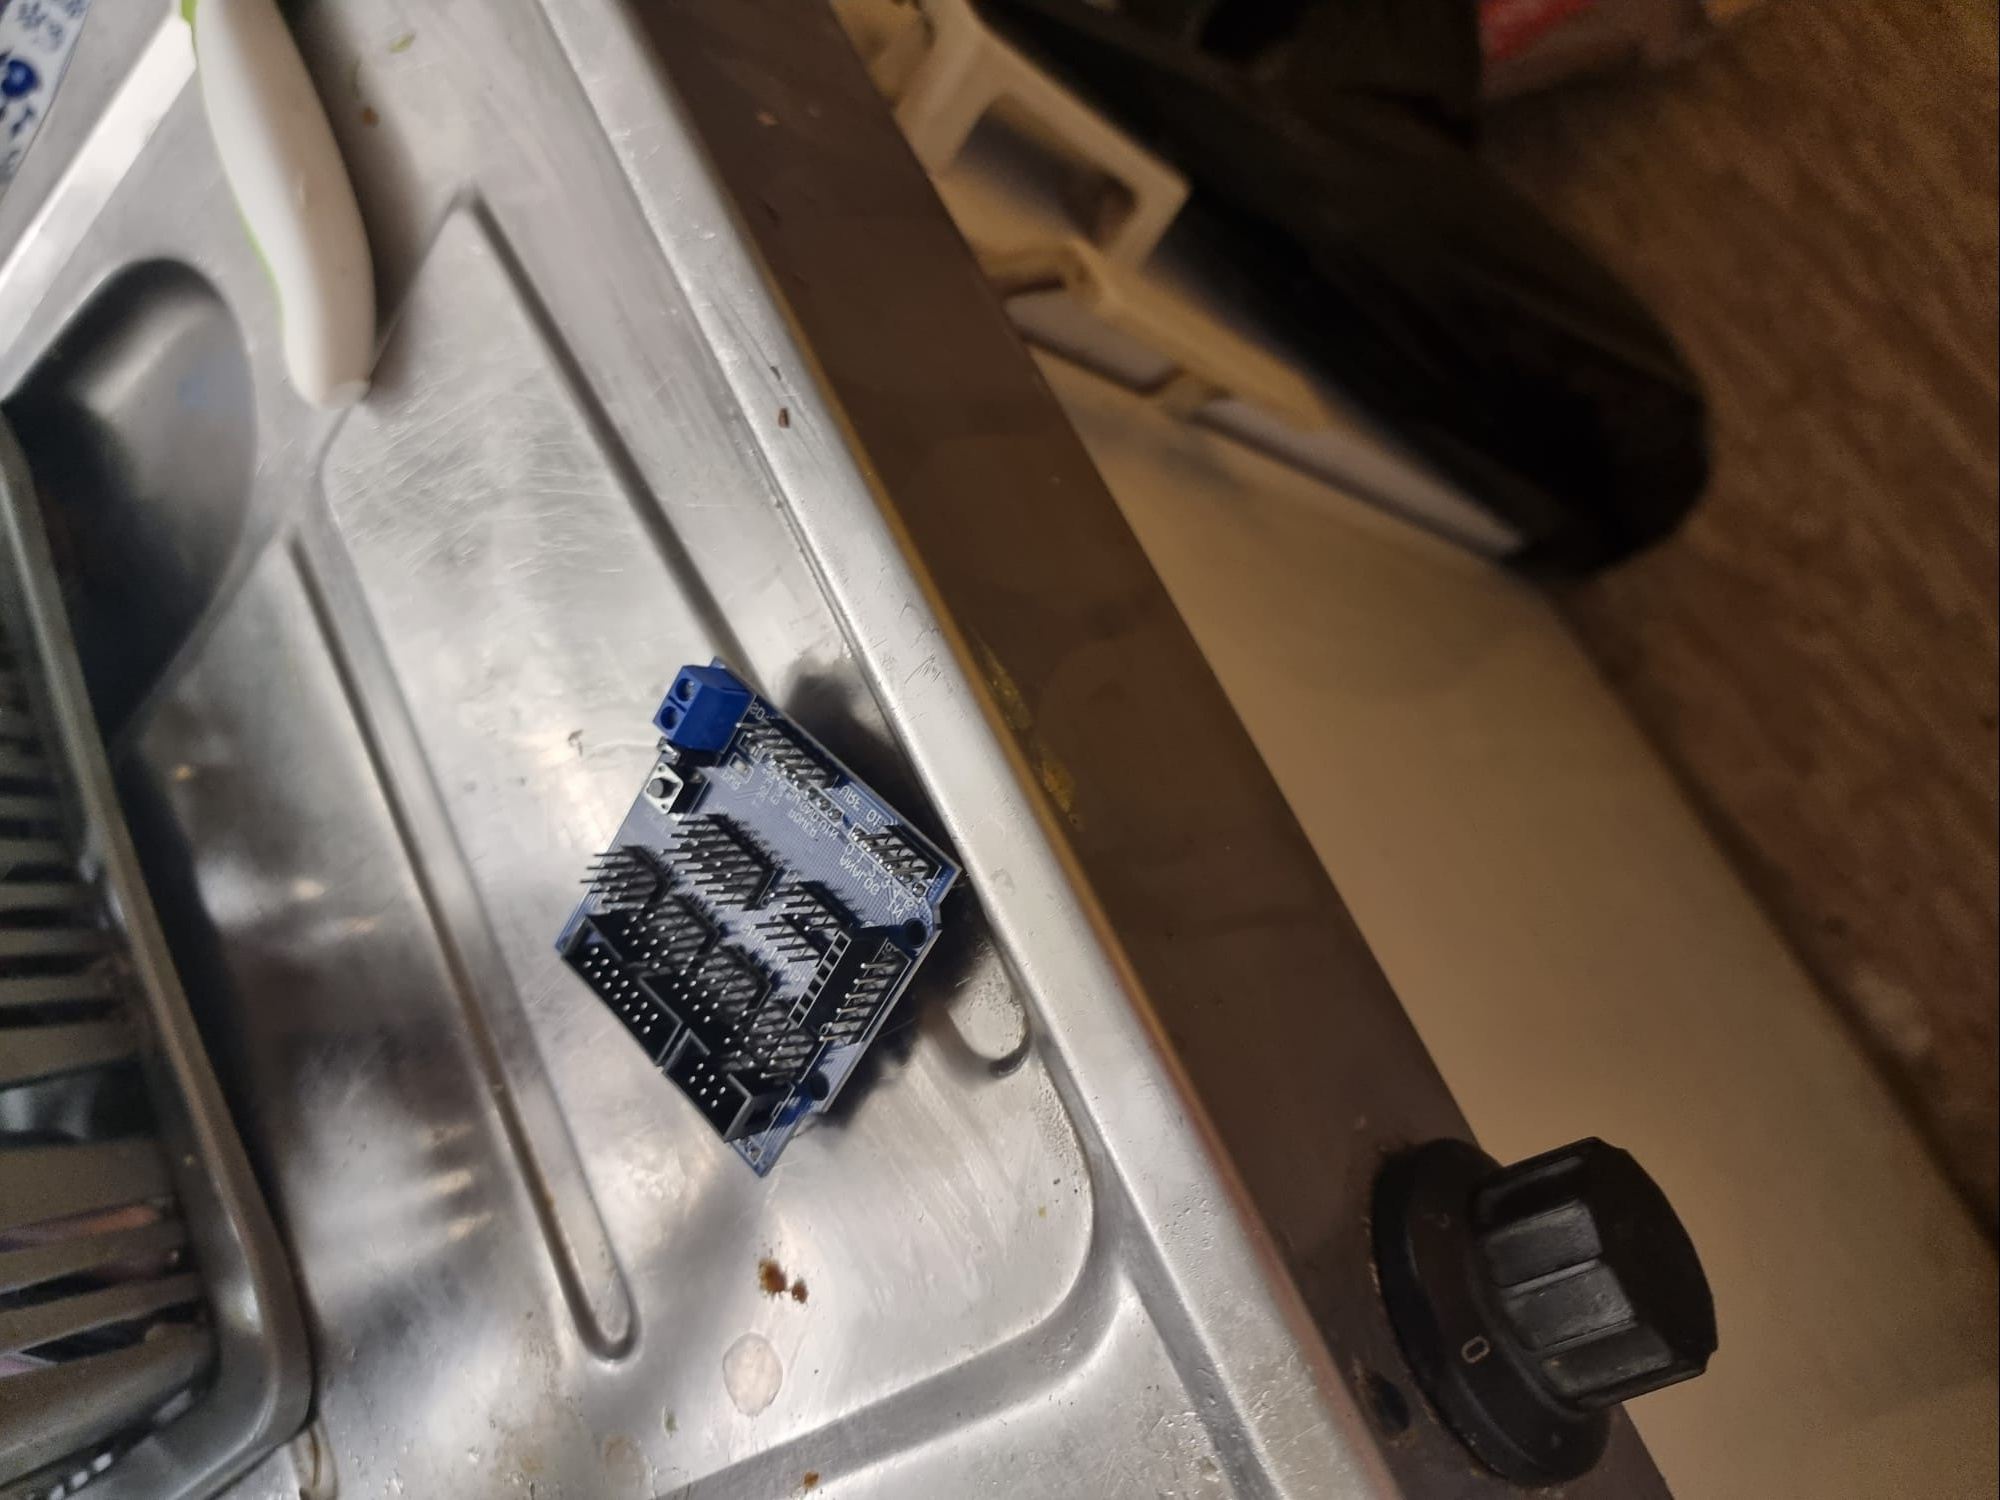5V EXPANSION: (543, 684, 957, 1186)
